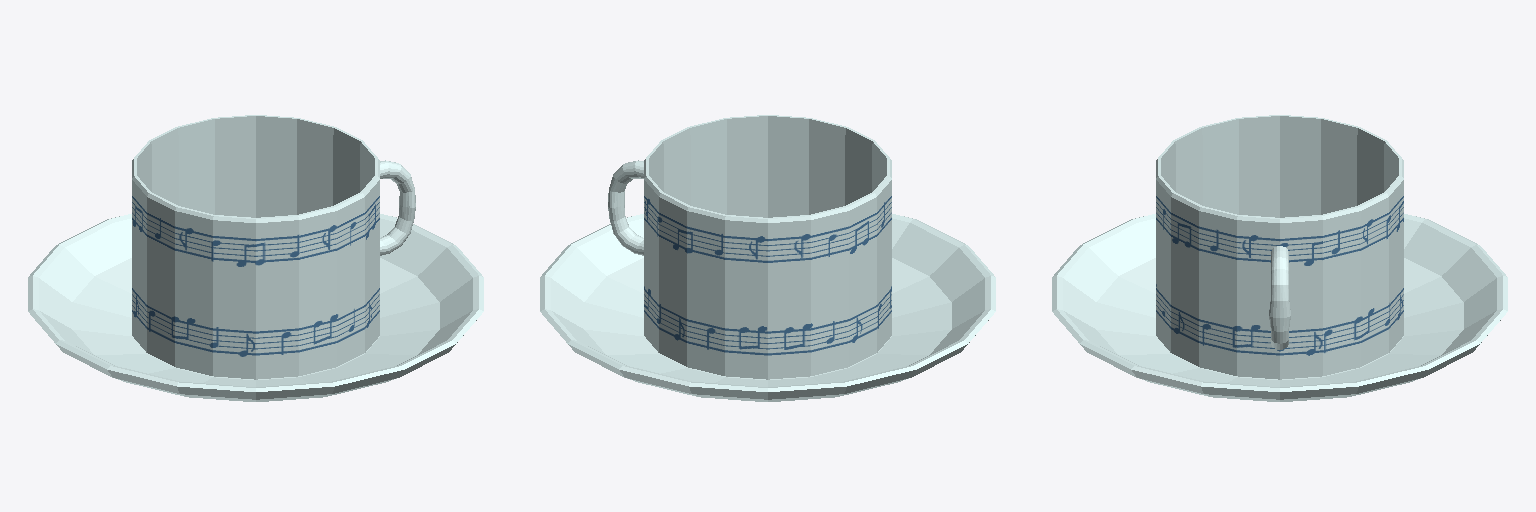
3 views of the same model, side by side, from view 1: azimuth 30°, elevation 25°; view 2: azimuth 150°, elevation 25°; view 3: azimuth 270°, elevation 25° (orthographic).
Visible parts, largest first — view 1: pCylinder3, pCylinder2, pCylinder4; view 2: pCylinder3, pCylinder2, pCylinder4; view 3: pCylinder3, pCylinder2, pCylinder4.
Part boxes in pixels (x1,y1,x2,y2): pCylinder3: (132, 115, 379, 379); pCylinder2: (28, 214, 483, 401); pCylinder4: (380, 160, 415, 255); pCylinder3: (644, 115, 891, 379); pCylinder2: (540, 214, 995, 401); pCylinder4: (608, 160, 643, 255); pCylinder3: (1156, 115, 1403, 379); pCylinder2: (1052, 214, 1507, 401); pCylinder4: (1269, 246, 1290, 349).
Bounding box in the file's own units: 1.79 × 0.7609 × 1.77.
Materials: 1 (1 with a texture image).